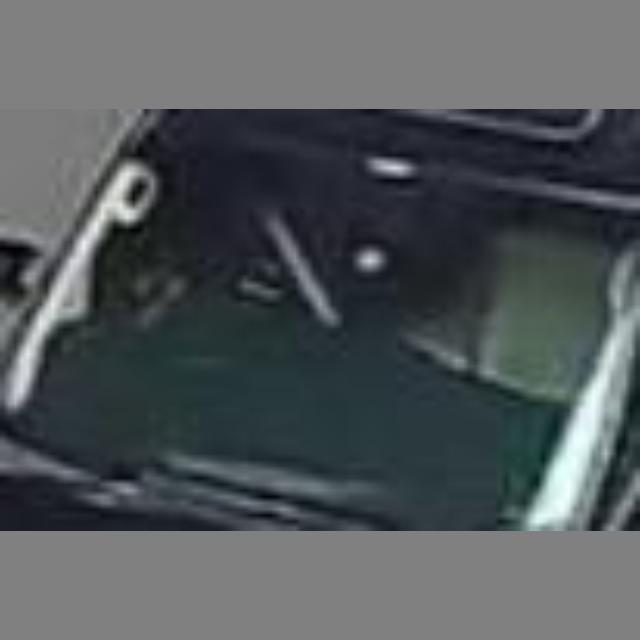pakai: (168, 177, 435, 358)
